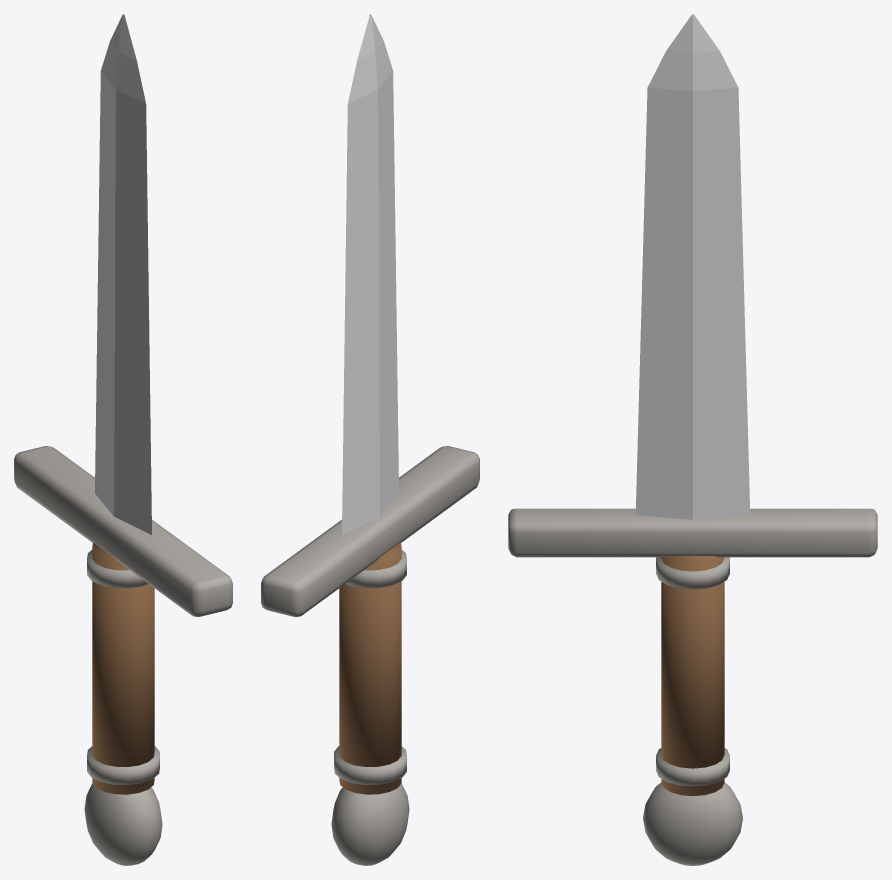
The model's file is dagger.glb.
3 views of the same model, side by side, from view 1: azimuth 30°, elevation 25°; view 2: azimuth 150°, elevation 25°; view 3: azimuth 270°, elevation 25° (orthographic).
Parts seen in each view (by area): view 1: Sword; view 2: Sword; view 3: Sword.
Part boxes in pixels (x1,y1,x2,y2): Sword: [14, 14, 232, 865]; Sword: [261, 14, 479, 865]; Sword: [508, 14, 877, 865].
Bounding box in the file's own units: 0.034 × 0.431 × 0.17.
